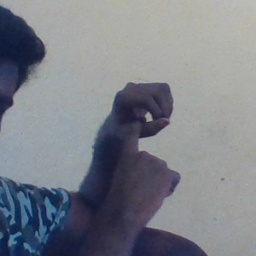Q: (102, 77, 190, 208)
